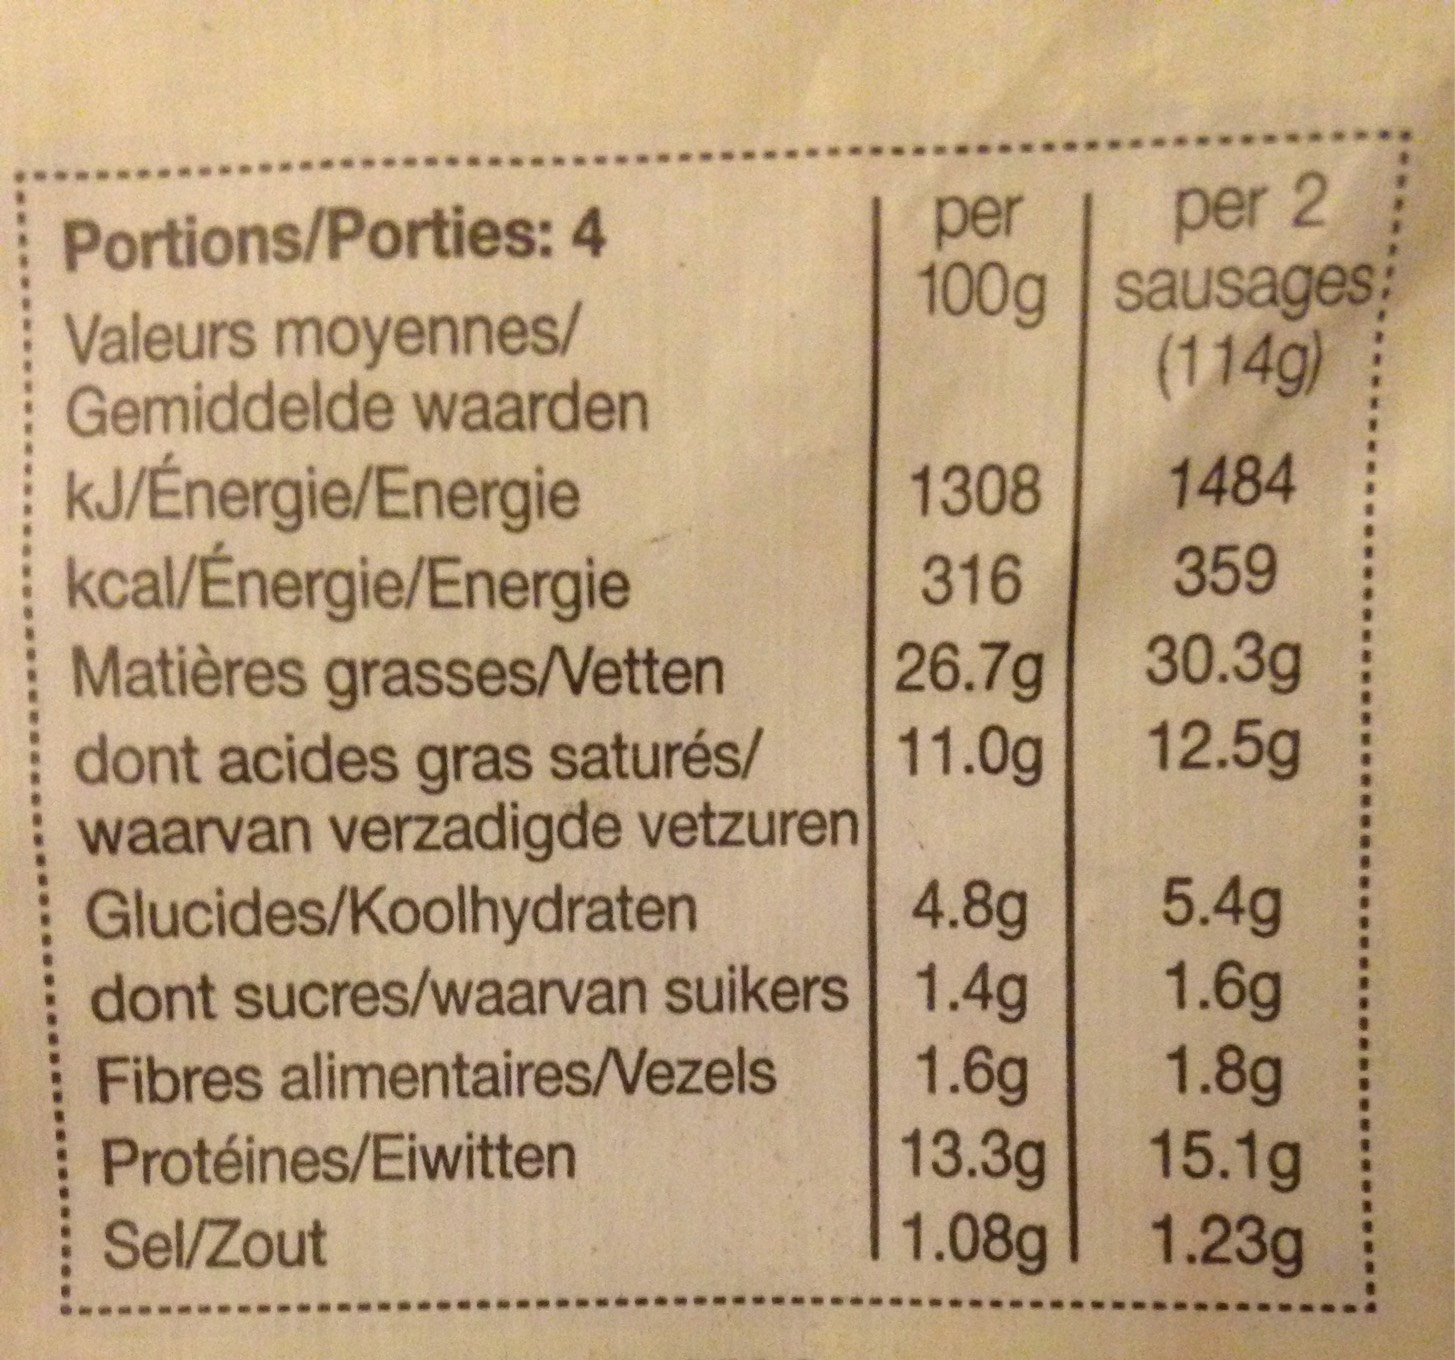column: (20, 173, 864, 1273), (1106, 173, 1357, 1282), (895, 169, 1062, 1276)
table: (18, 166, 1372, 1301)
